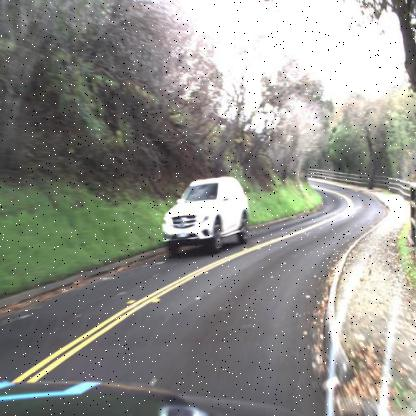car: (151, 172, 254, 260)
